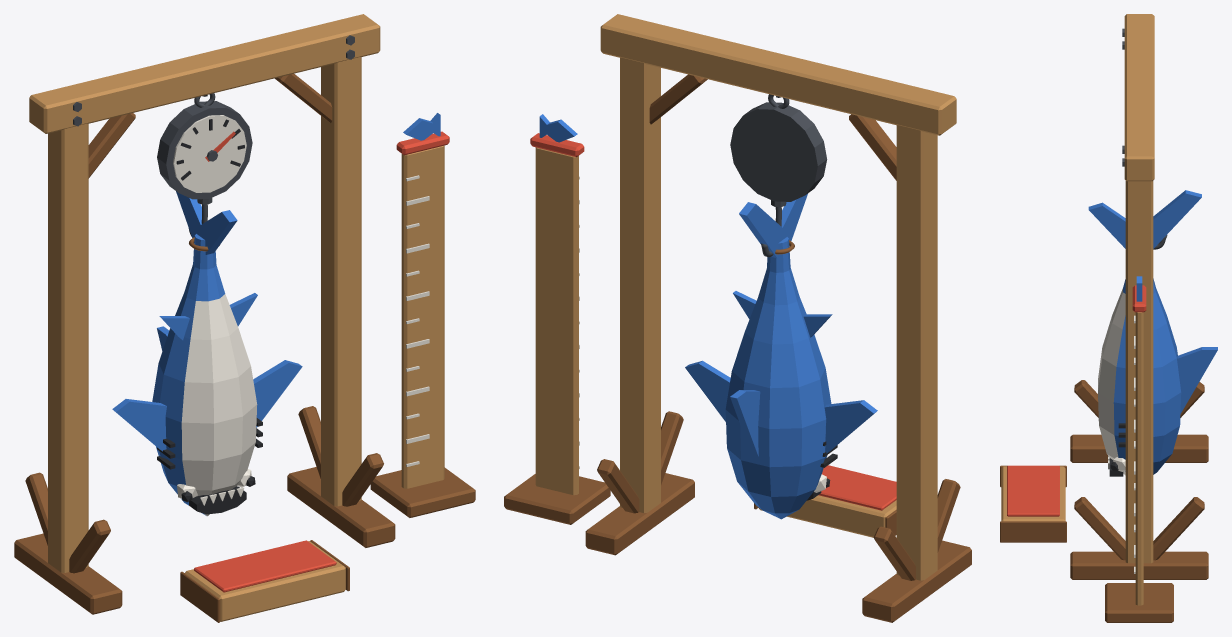
Rendered from big-catch-shark-display.glb.
3 views of the same model, side by side, from view 1: azimuth 30°, elevation 25°; view 2: azimuth 150°, elevation 25°; view 3: azimuth 270°, elevation 25° (orthographic). The views are drawn at different scales.
Parts seen in each view (by area): view 1: Shark, Frame_Post_L, Frame_Post_R, Frame_Beam, Board_Plank, Podium_Step, Dial_Face, Podium_Top, Frame_Foot_L, Frame_Foot_R, Board_Base, Dial_Rim (+9 smaller); view 2: Shark, Frame_Post_L, Frame_Post_R, Frame_Beam, Board_Plank, Dial_Rim, Frame_Foot_L, Frame_Foot_R, Board_Base, Podium_Step, Podium_Top, Frame_TopBrace_L (+7 smaller); view 3: Shark, Frame_Post_R, Frame_Beam, Frame_Foot_R, Podium_Top, Board_Plank, Board_Base, Frame_Foot_L, Podium_Trim_1, Frame_KneeBrace_RB, Frame_KneeBrace_RF, Podium_Step (+2 smaller).
Boxes of the visible parts, x1,y1,x2,y2 form: Shark: [112, 191, 302, 516]; Frame_Post_L: [48, 123, 88, 572]; Frame_Post_R: [321, 57, 361, 506]; Frame_Beam: [29, 14, 380, 133]; Board_Plank: [401, 145, 444, 488]; Podium_Step: [185, 541, 345, 621]; Dial_Face: [173, 115, 246, 192]; Podium_Top: [194, 540, 336, 592]; Frame_Foot_L: [14, 533, 122, 614]; Frame_Foot_R: [287, 467, 395, 547]; Board_Base: [370, 467, 475, 517]; Dial_Rim: [157, 101, 252, 199]; Shark: [685, 193, 877, 519]; Frame_Post_L: [896, 125, 937, 580]; Frame_Post_R: [620, 57, 660, 512]; Frame_Beam: [600, 14, 956, 135]; Board_Plank: [535, 147, 578, 495]; Dial_Rim: [730, 102, 827, 201]; Frame_Foot_L: [862, 540, 971, 622]; Frame_Foot_R: [585, 473, 694, 555]; Board_Base: [504, 474, 610, 524]; Podium_Step: [758, 495, 896, 537]; Podium_Top: [818, 465, 896, 510]; Frame_TopBrace_L: [849, 114, 896, 180]; Shark: [1088, 190, 1217, 476]; Frame_Post_R: [1125, 180, 1153, 563]; Frame_Beam: [1124, 14, 1154, 181]; Frame_Foot_R: [1070, 551, 1208, 579]; Podium_Top: [1007, 465, 1059, 516]; Board_Plank: [1135, 312, 1143, 605]; Board_Base: [1105, 583, 1173, 622]; Frame_Foot_L: [1070, 434, 1208, 462]; Podium_Trim_1: [1000, 521, 1066, 542]; Frame_KneeBrace_RB: [1153, 497, 1204, 560]; Frame_KneeBrace_RF: [1074, 497, 1125, 560]; Podium_Step: [1001, 466, 1065, 521].
Bounding box in the file's own units: 18.5 × 20.6 × 9.45.
